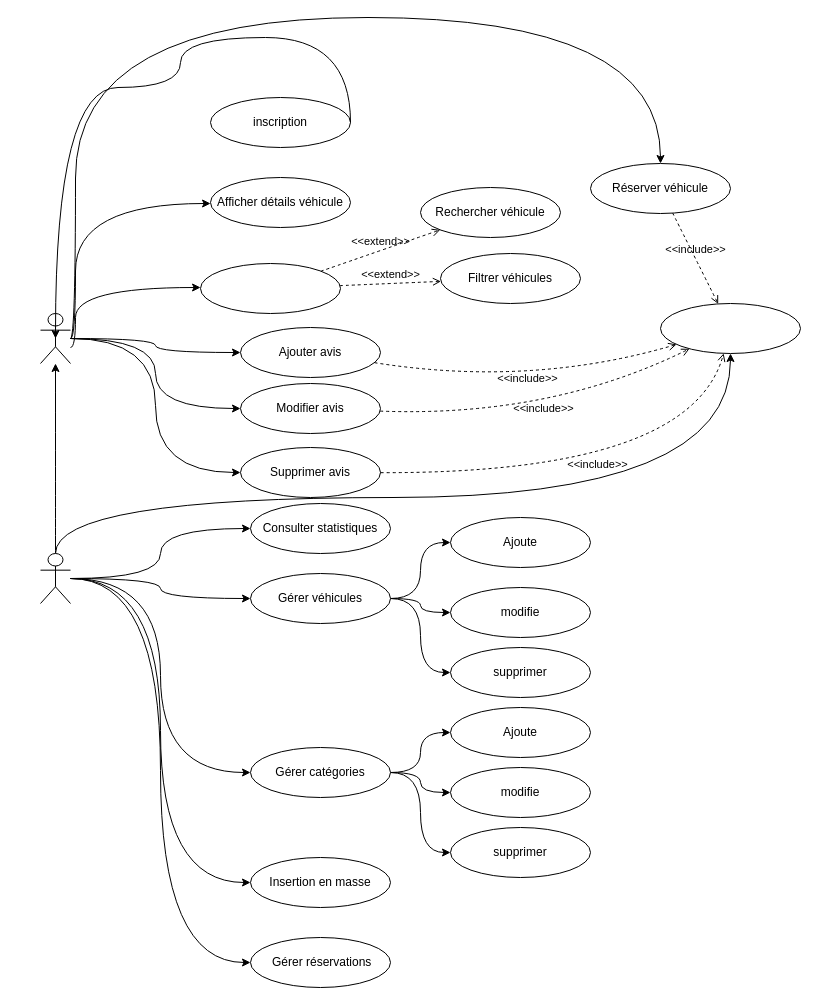
Some shapes in this 818 by 1005 pixel diagram are drawn without their labels. The centre of each missing label's shape, as x and y in pixels:
Administrateur: the point at 55,578
Client: the point at 55,338
Explorer catégories: the point at 270,288
Se connecter: the point at 730,328
